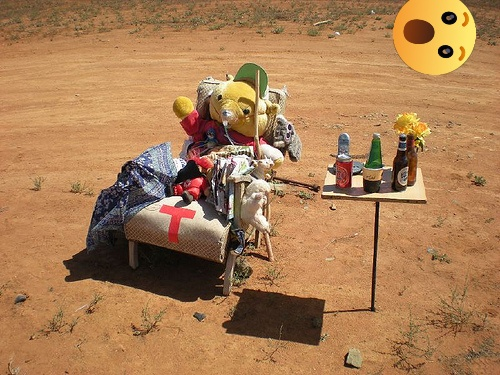wow: (393, 0, 476, 75)
